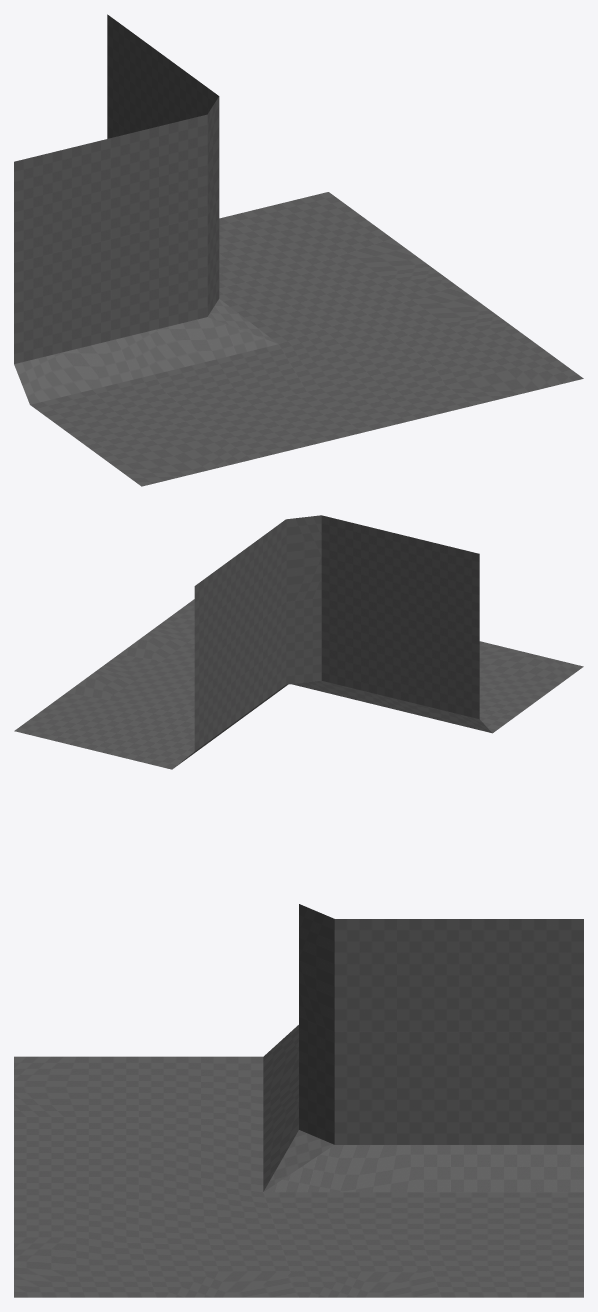
3 views of the same model, one above another, from view 1: azimuth 30°, elevation 25°; view 2: azimuth 150°, elevation 25°; view 3: azimuth 270°, elevation 25° (orthographic). The views are drawn at different scales.
Visible parts, largest first — view 1: 0; view 2: 0; view 3: 0.
Boxes of the visible parts, x1,y1,x2,y2 form: 0: (14,14,583,486); 0: (14,515,583,769); 0: (14,904,583,1297).
Size of the model in its own units: 4 by 2 by 4.
1 material, 1 textured.
